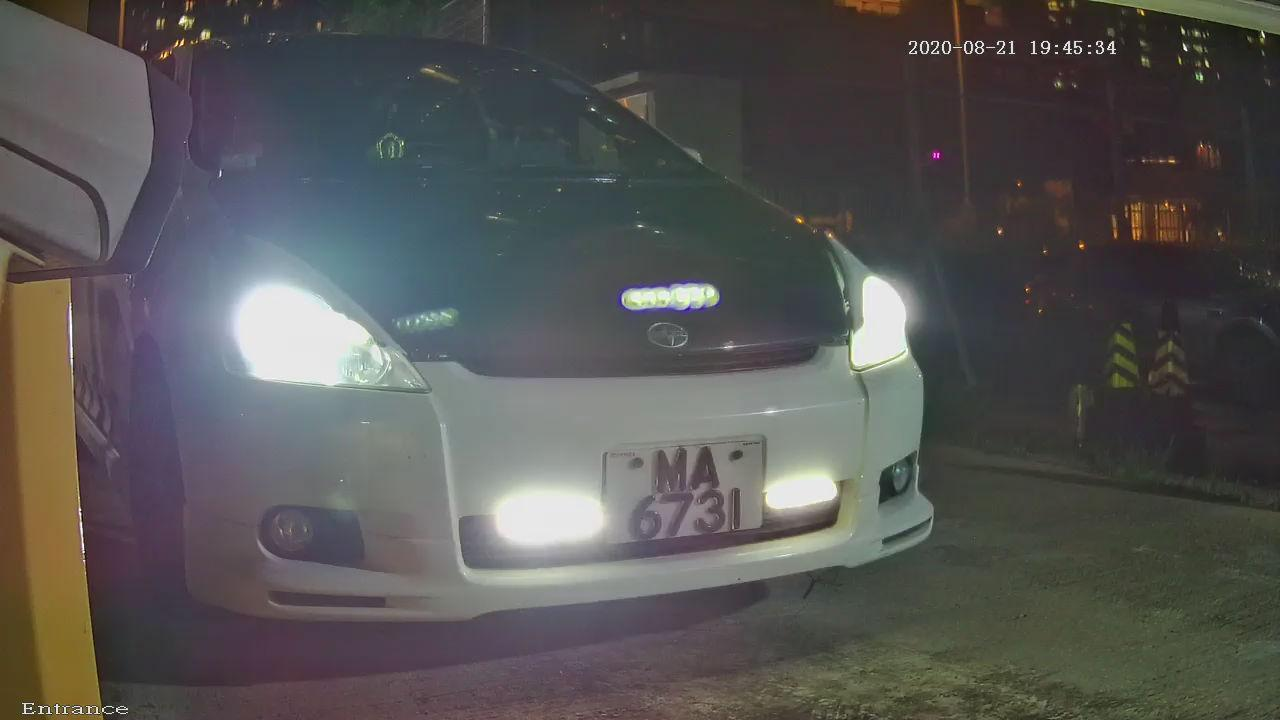Car: (69, 7, 1052, 701)
License Plate: (589, 429, 781, 561)
